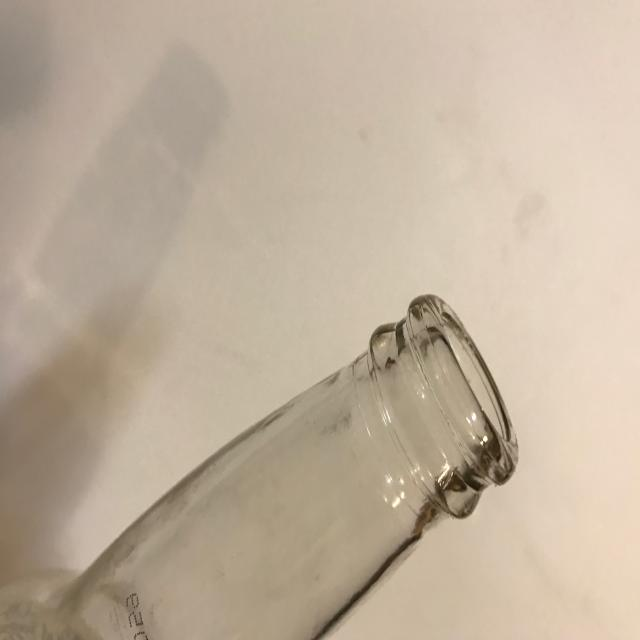glass: (43, 292, 520, 640)
